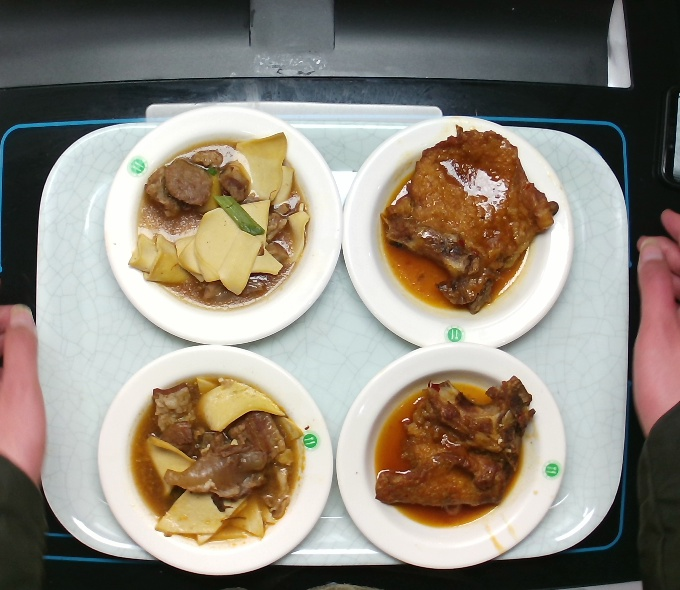wcq-DaPai: (373, 120, 567, 320), (368, 369, 539, 533)
wcq-QianZhangNiuRou: (123, 127, 314, 316), (123, 370, 309, 554)
